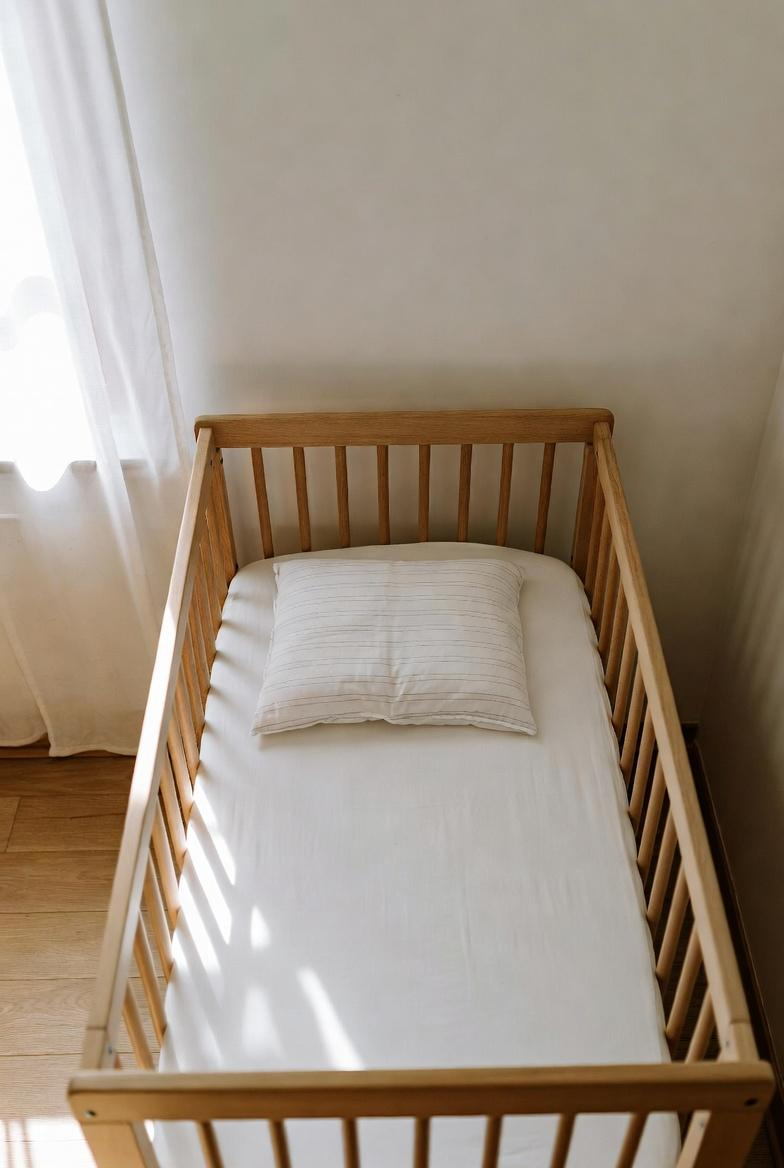crib: (55, 400, 784, 1167)
